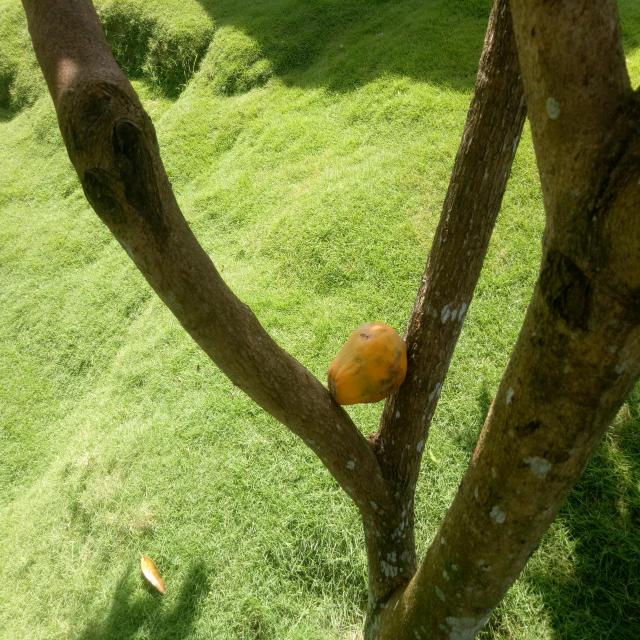Pepaya rippen: (323, 313, 409, 417)
